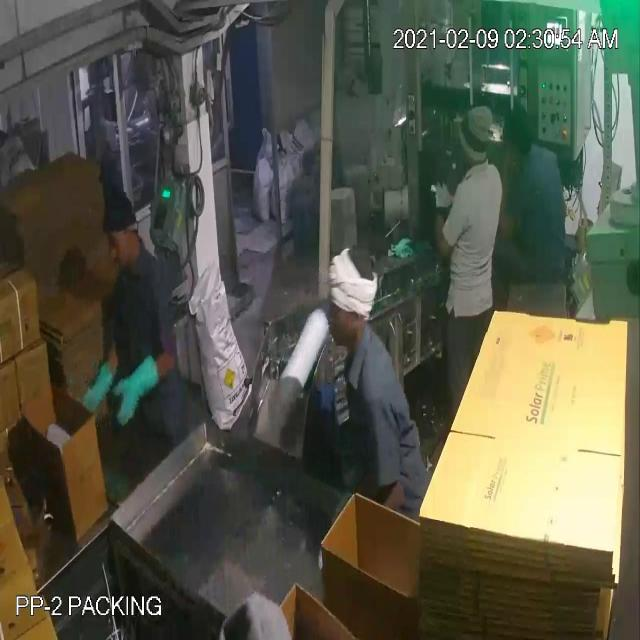gloves: (108, 360, 166, 434), (65, 357, 123, 415)
no-gloves: (427, 184, 461, 260)
